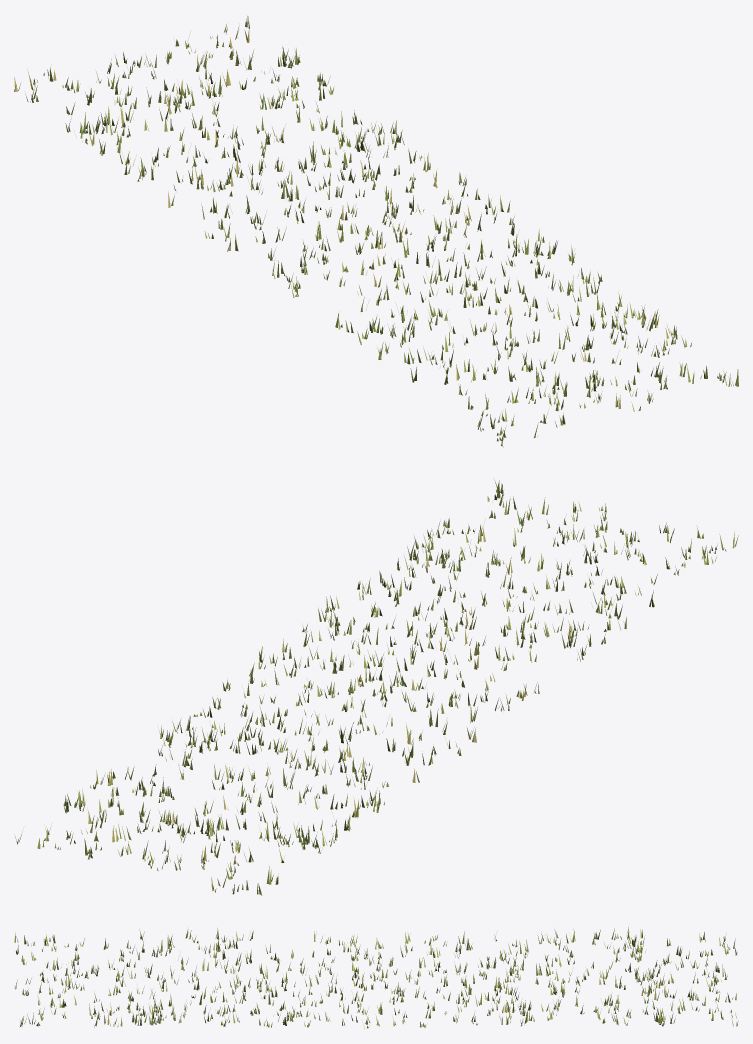
The model's file is Meadow_GrassPatch_05.obj.
The picture shows the model from 3 angles, top to bottom: view 1: azimuth 30°, elevation 25°; view 2: azimuth 150°, elevation 25°; view 3: azimuth 270°, elevation 25°; orthographic projection. The views are drawn at different scales.
Parts seen in each view (by area): view 1: Meadow_GrassPatch_05; view 2: Meadow_GrassPatch_05; view 3: Meadow_GrassPatch_05.
Part boxes in pixels (x1,y1,x2,y2): Meadow_GrassPatch_05: (14, 16, 738, 447); Meadow_GrassPatch_05: (15, 480, 738, 895); Meadow_GrassPatch_05: (14, 927, 738, 1028).
Bounding box in the file's own units: 5.42 × 0.418 × 18.1.
1 material, 1 textured.
